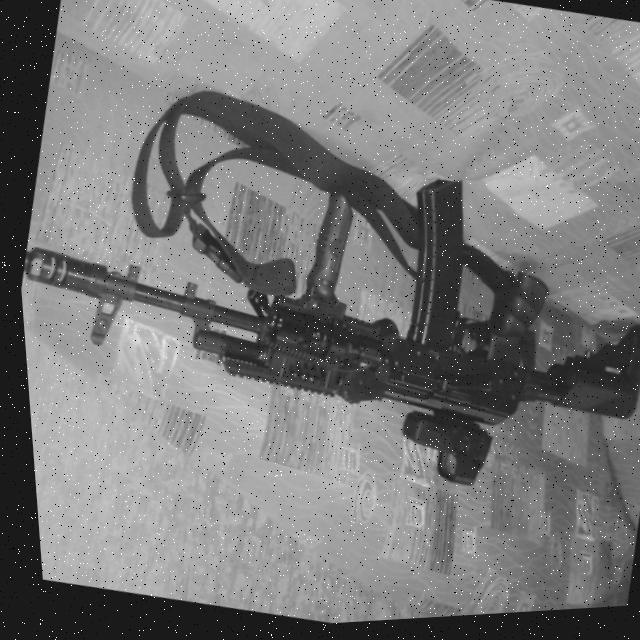firearm: (7, 93, 640, 549)
